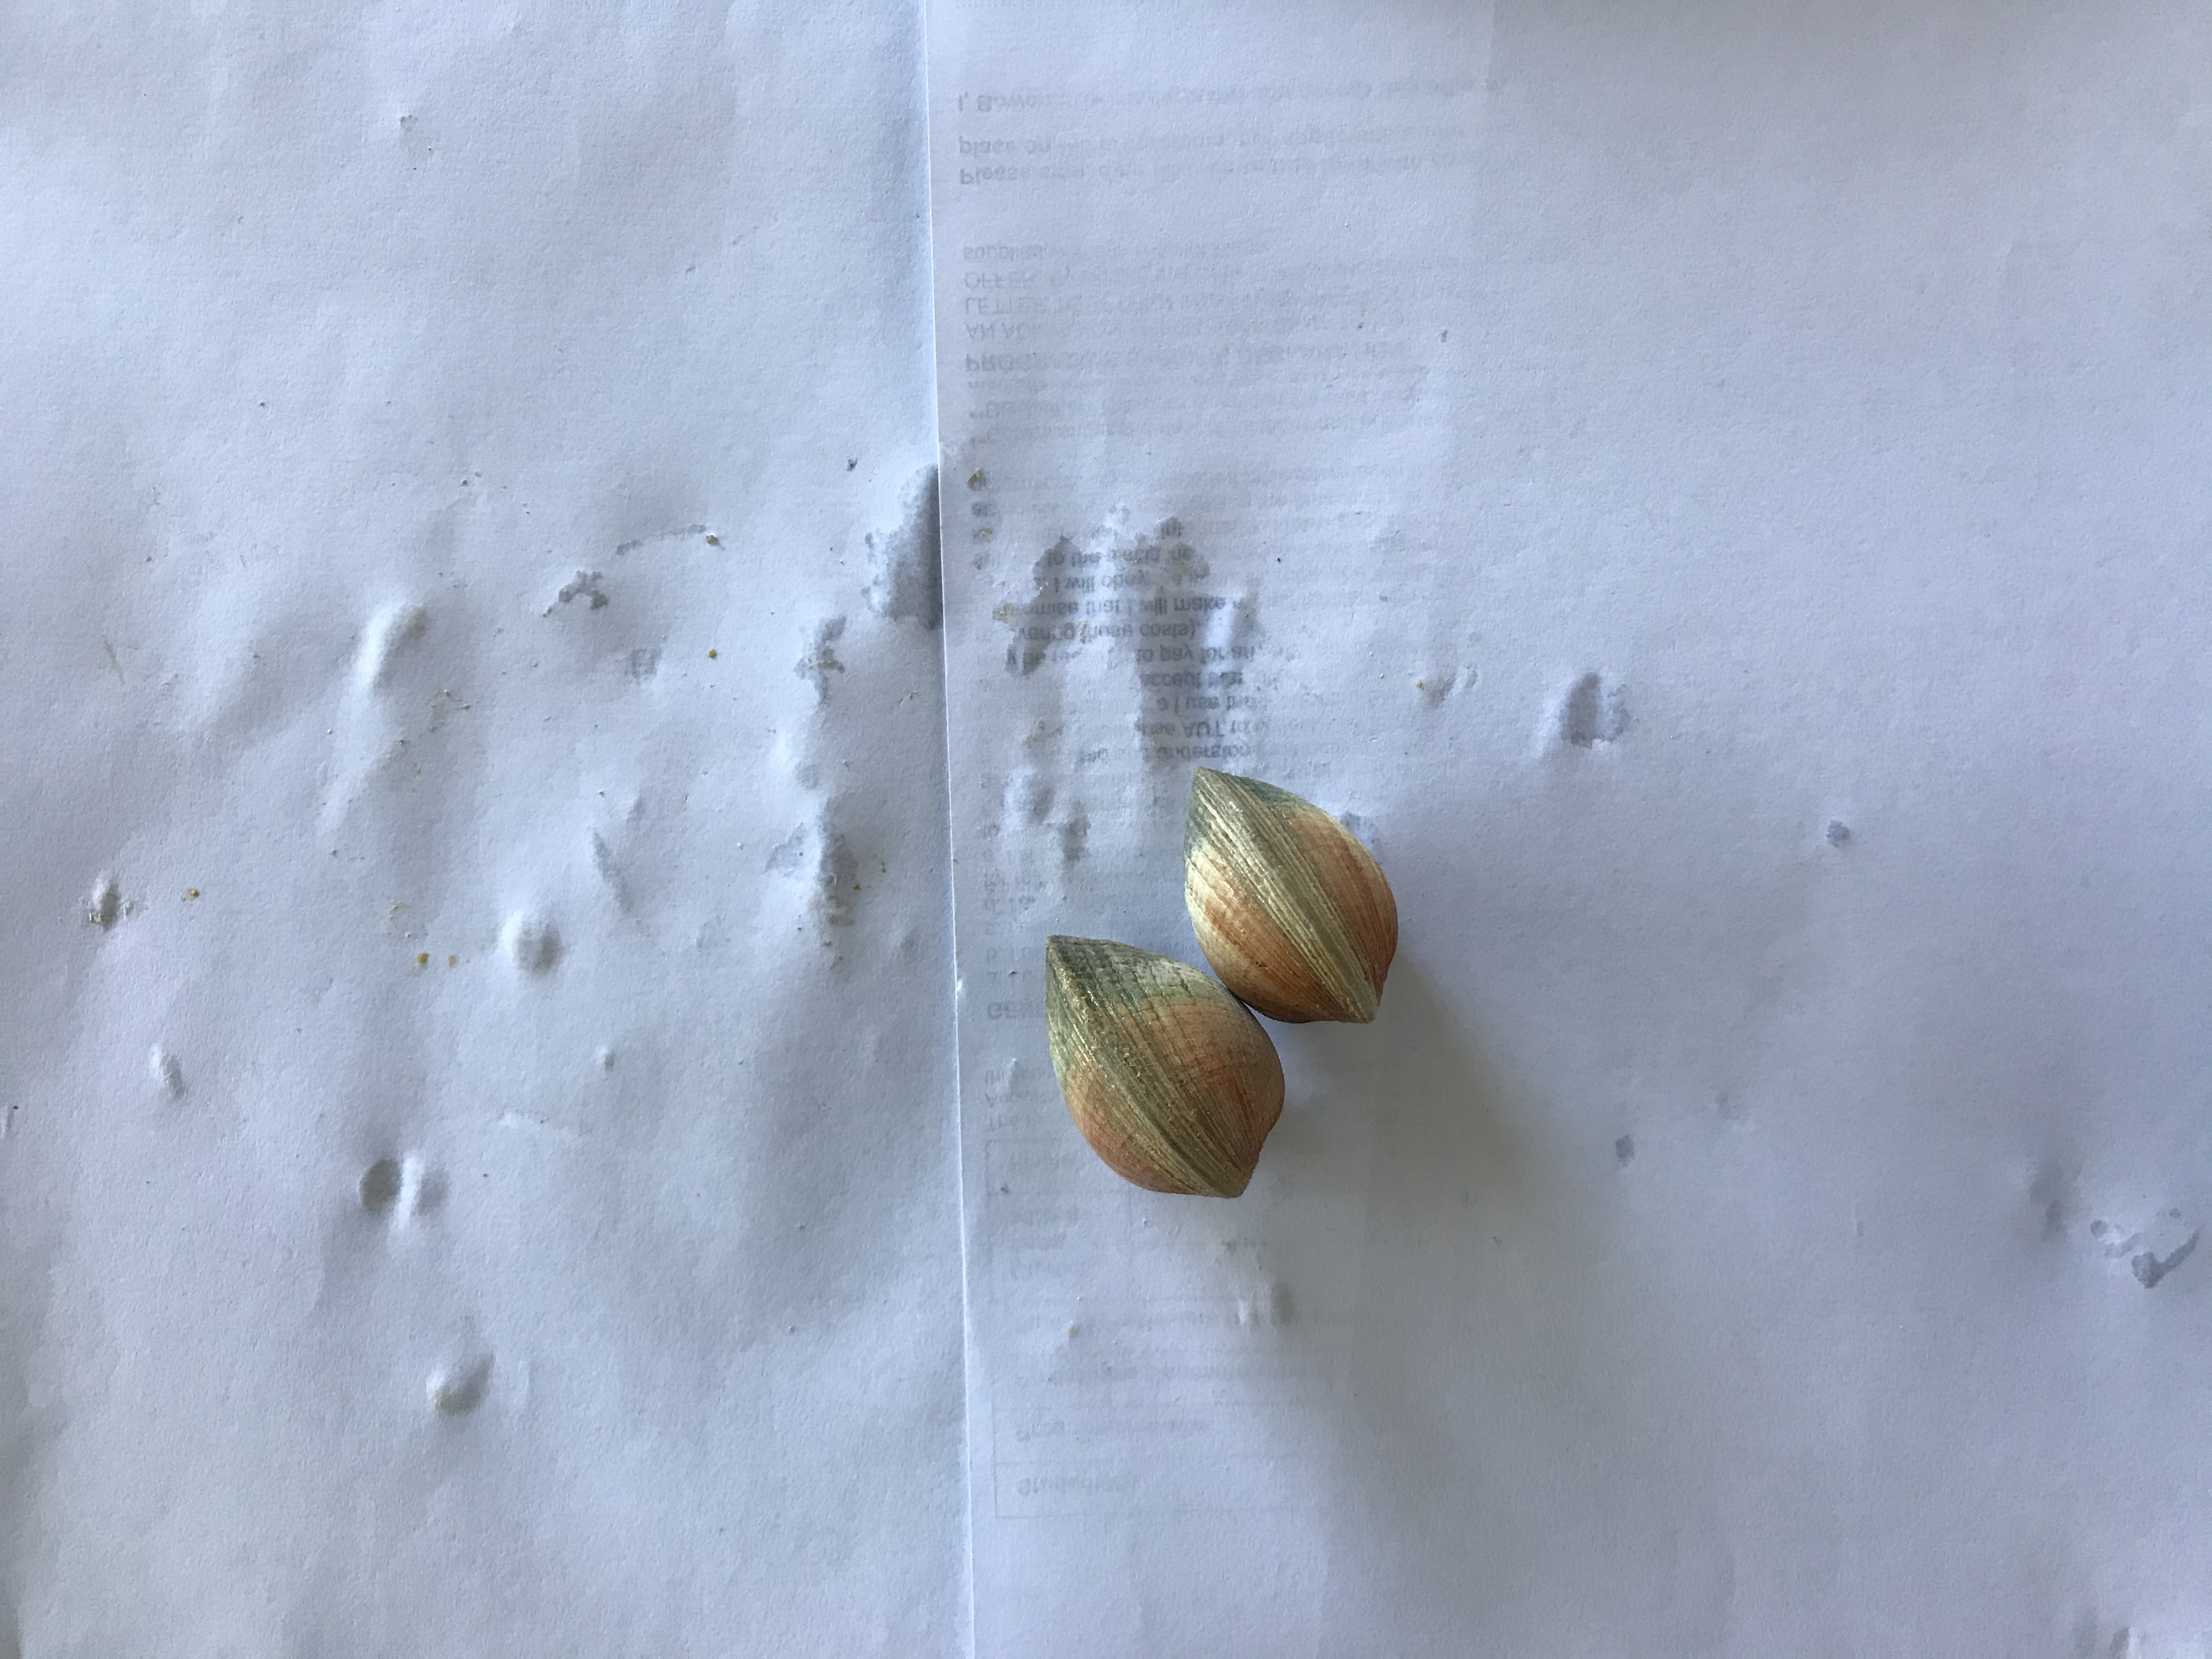cockle: (1038, 920, 1285, 1208), (1176, 758, 1400, 1035)
